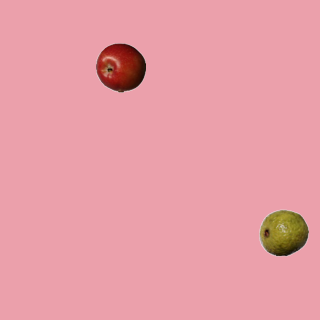Apple Braeburn: (95, 42, 145, 92)
Guava: (258, 207, 308, 257)
